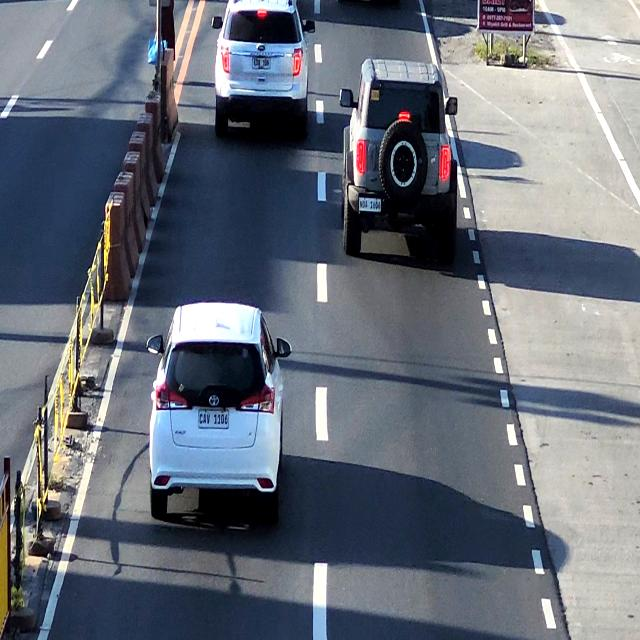Car: (153, 302, 290, 536), (212, 0, 308, 141)
Jeep: (346, 58, 460, 256)
License-Plate: (198, 409, 230, 427), (361, 200, 383, 216), (250, 54, 271, 70)
